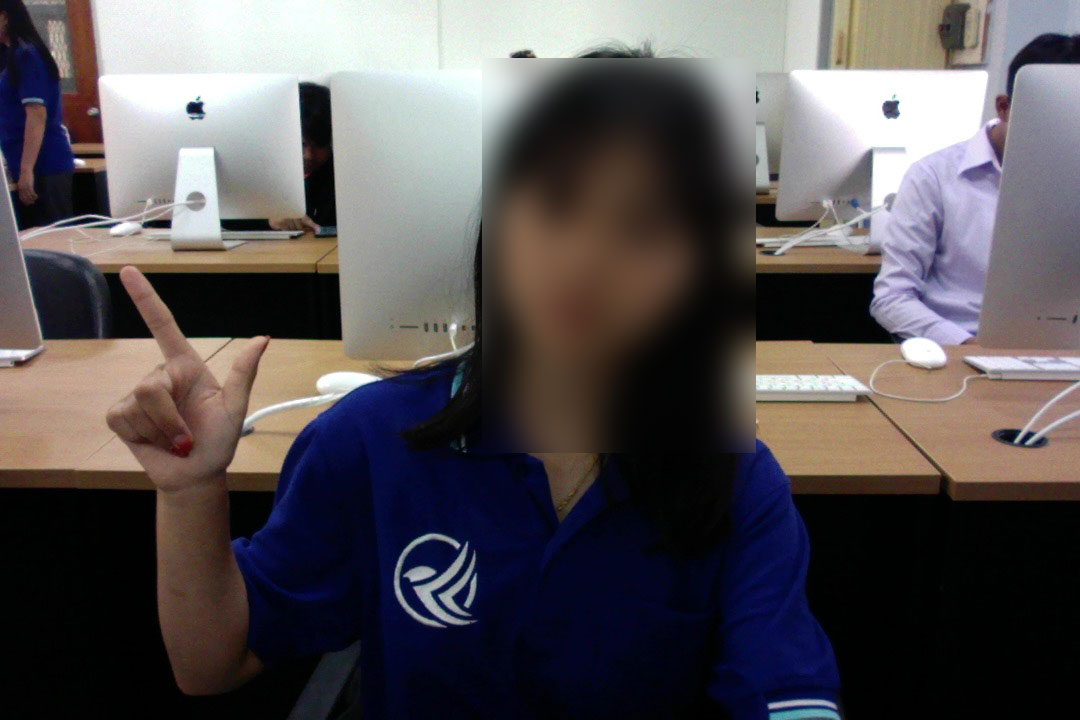lor: (68, 260, 296, 515)
